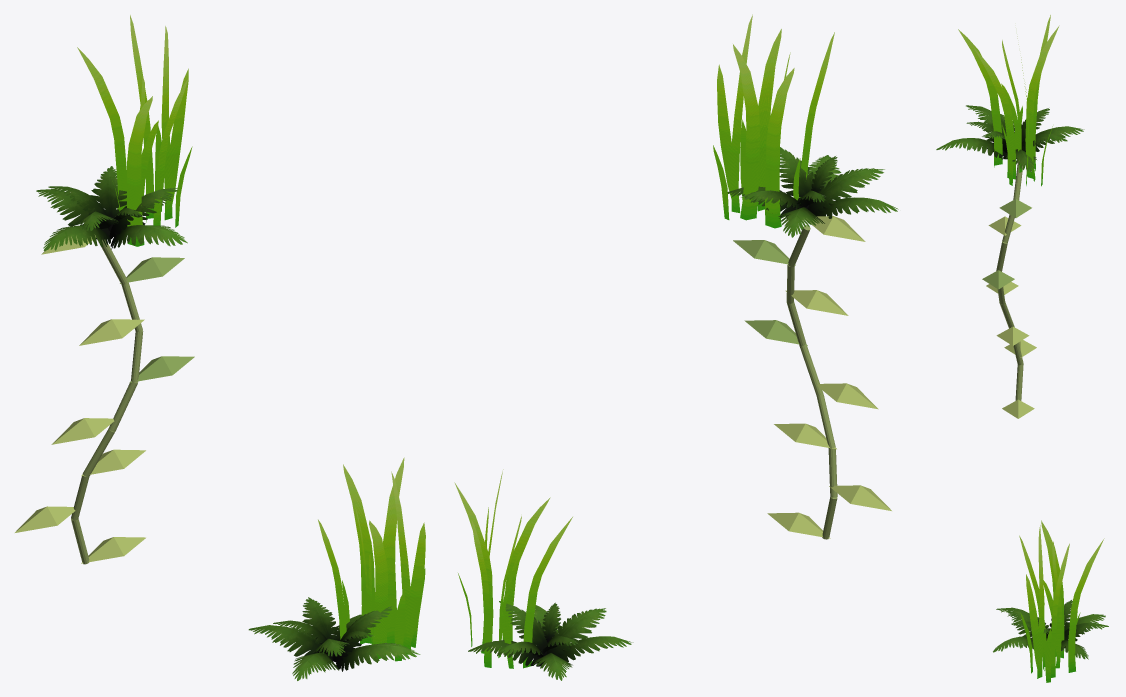
File: Power_Cabinet_Greenery.glb
3 views of the same model, side by side, from view 1: azimuth 30°, elevation 25°; view 2: azimuth 150°, elevation 25°; view 3: azimuth 270°, elevation 25° (orthographic). The views are drawn at different scales.
Parts seen in each view (by area): view 1: Patch_000, Patch_001; view 2: Patch_000, Patch_001; view 3: Patch_000, Patch_001.
Boxes of the visible parts, x1,y1,x2,y2 form: Patch_000: (15,15,194,564); Patch_001: (248,457,425,680); Patch_000: (713,14,898,539); Patch_001: (454,469,633,680); Patch_000: (936,15,1084,418); Patch_001: (993,520,1108,682).
Bounding box in the file's own units: 1.56 × 2.45 × 0.7092.
5 materials, 2 textured.
